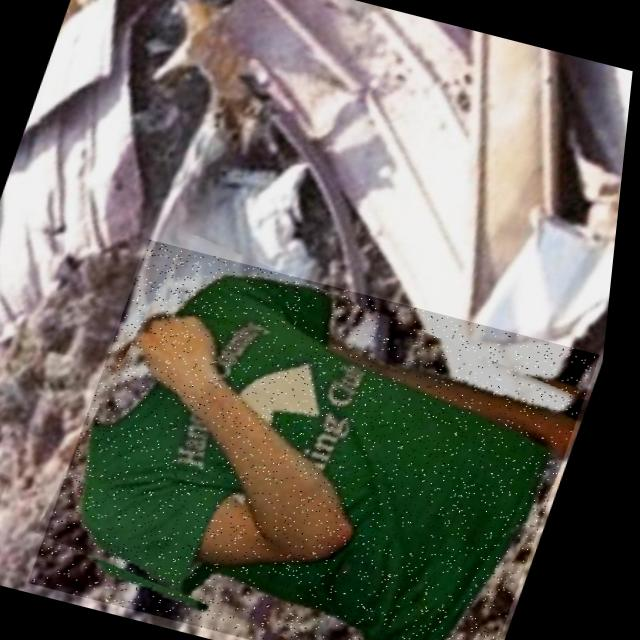Person in Rubble: (36, 237, 617, 640)
